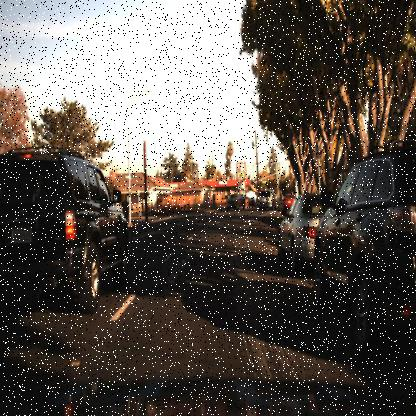car: (312, 146, 415, 364), (0, 147, 128, 314), (274, 190, 326, 271), (255, 188, 280, 212), (223, 188, 246, 212)
